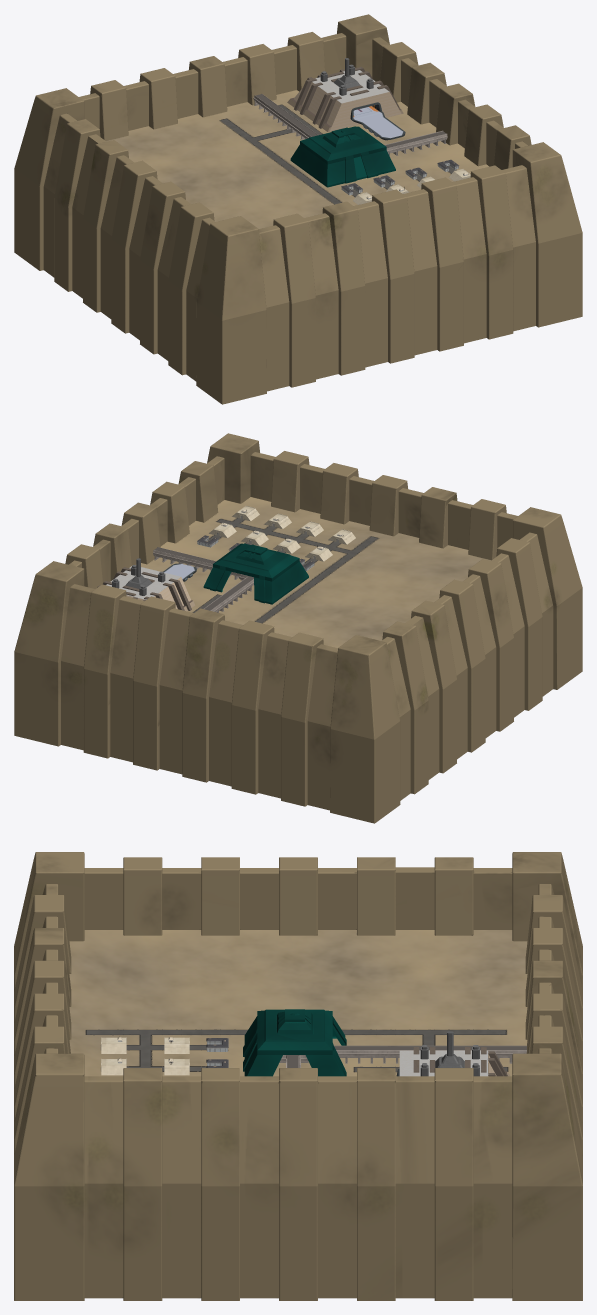
The model's file is SSCDesertEnemyBase1.fbx.
The picture shows the model from 3 angles, top to bottom: view 1: azimuth 30°, elevation 25°; view 2: azimuth 150°, elevation 25°; view 3: azimuth 270°, elevation 25°; orthographic projection. The views are drawn at different scales.
Parts seen in each view (by area): view 1: SSCDesertEnemyBase1_Walls, SSCDesertEnemyBase1_Ground, SSCDesertEnemyBase1_Hangar_Ext, SSCDesertEnemyBase1_Buildings_3, SSCDesertEnemyBase1_Bridge, SSCDesertEnemyBase1_Hangar_Runway, SSCDesertEnemyBase1_Buildings_2, SSCDesertEnemyBase1_Buildings_1; view 2: SSCDesertEnemyBase1_Walls, SSCDesertEnemyBase1_Ground, SSCDesertEnemyBase1_Buildings_3, SSCDesertEnemyBase1_Hangar_Ext, SSCDesertEnemyBase1_Buildings_1, SSCDesertEnemyBase1_Bridge; view 3: SSCDesertEnemyBase1_Walls, SSCDesertEnemyBase1_Ground, SSCDesertEnemyBase1_Buildings_3, SSCDesertEnemyBase1_Hangar_Ext, SSCDesertEnemyBase1_Bridge, SSCDesertEnemyBase1_Buildings_1.
Part boxes in pixels (<box>): SSCDesertEnemyBase1_Walls: <box>14,14,582,404</box>; SSCDesertEnemyBase1_Ground: <box>106,90,488,228</box>; SSCDesertEnemyBase1_Hangar_Ext: <box>287,58,403,131</box>; SSCDesertEnemyBase1_Buildings_3: <box>290,126,395,187</box>; SSCDesertEnemyBase1_Bridge: <box>253,94,447,157</box>; SSCDesertEnemyBase1_Hangar_Runway: <box>350,102,405,140</box>; SSCDesertEnemyBase1_Buildings_2: <box>341,159,459,195</box>; SSCDesertEnemyBase1_Buildings_1: <box>353,169,470,204</box>; SSCDesertEnemyBase1_Walls: <box>14,433,582,823</box>; SSCDesertEnemyBase1_Ground: <box>141,497,490,647</box>; SSCDesertEnemyBase1_Buildings_3: <box>203,543,308,604</box>; SSCDesertEnemyBase1_Hangar_Ext: <box>97,558,195,611</box>; SSCDesertEnemyBase1_Buildings_1: <box>209,506,355,561</box>; SSCDesertEnemyBase1_Bridge: <box>153,547,253,612</box>; SSCDesertEnemyBase1_Walls: <box>14,852,582,1300</box>; SSCDesertEnemyBase1_Ground: <box>69,930,527,1076</box>; SSCDesertEnemyBase1_Buildings_3: <box>243,1009,346,1076</box>; SSCDesertEnemyBase1_Hangar_Ext: <box>399,1031,509,1076</box>; SSCDesertEnemyBase1_Bridge: <box>279,1045,526,1067</box>; SSCDesertEnemyBase1_Buildings_1: <box>101,1037,189,1075</box>.
Bounding box in the file's own units: 225000 × 95000 × 225000.
